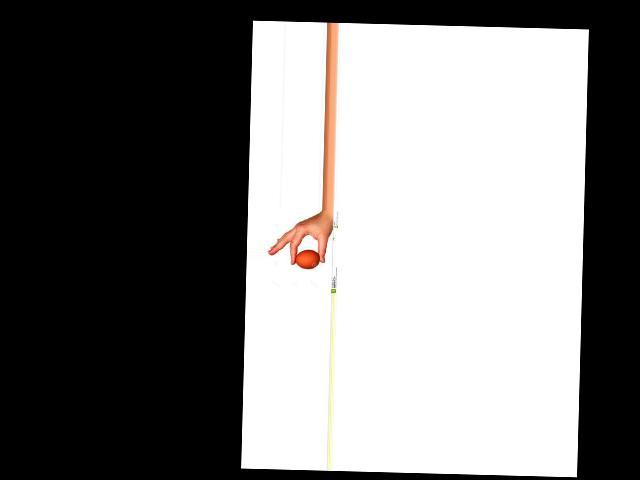egg: (295, 248, 320, 269)
